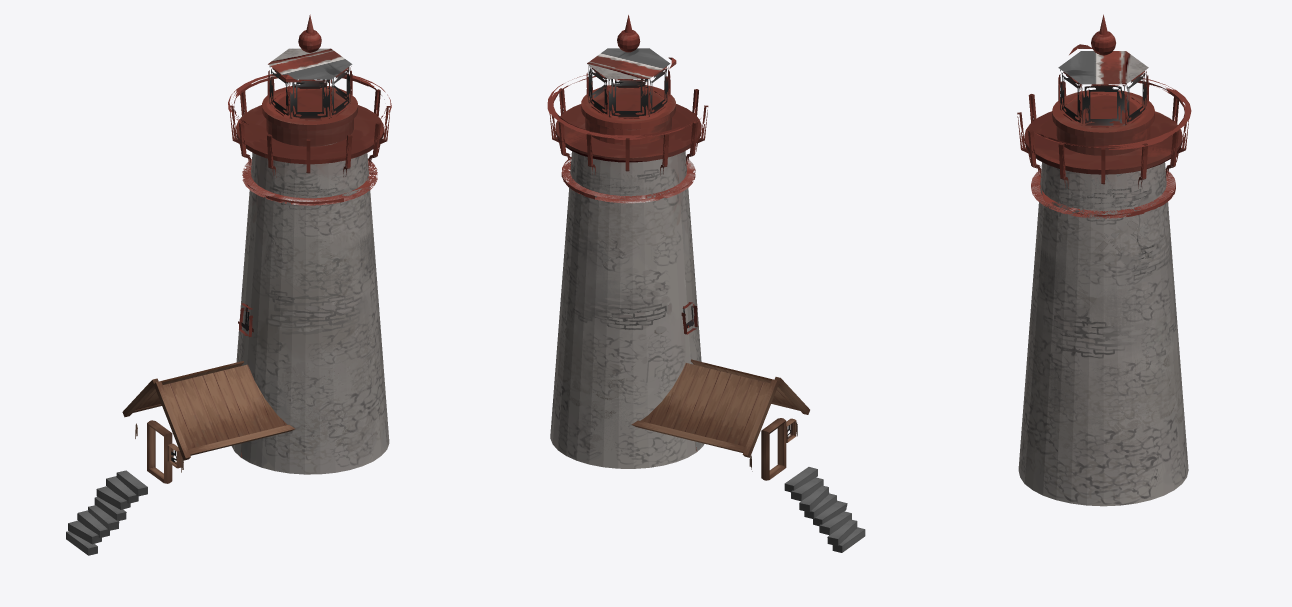
The model's file is Lighthouse03.fbx.
3 views of the same model, side by side, from view 1: azimuth 30°, elevation 25°; view 2: azimuth 150°, elevation 25°; view 3: azimuth 270°, elevation 25° (orthographic). The views are drawn at different scales.
Parts seen in each view (by area): view 1: Lighthouse02; view 2: Lighthouse02; view 3: Lighthouse02.
Boxes of the visible parts, x1,y1,x2,y2 form: Lighthouse02: (66, 14, 391, 555); Lighthouse02: (547, 15, 865, 552); Lighthouse02: (1017, 14, 1191, 506).
Bounding box in the file's own units: 18.76 × 24.18 × 14.88.
6 materials, 6 textured.
